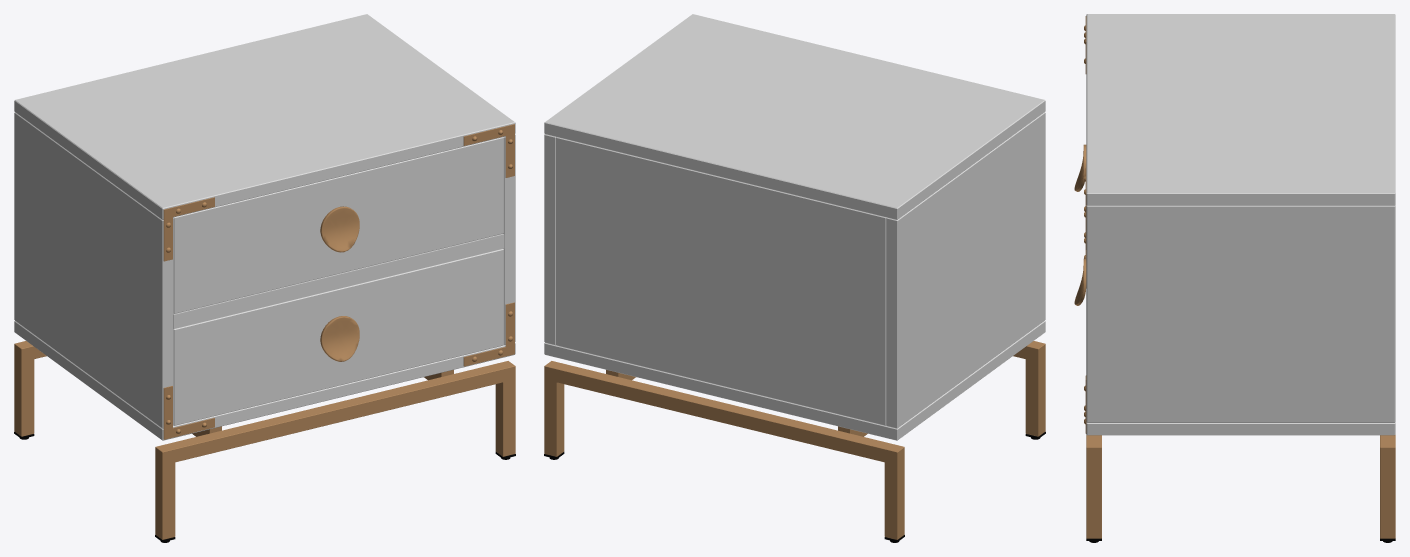
3 views of the same model, side by side, from view 1: azimuth 30°, elevation 25°; view 2: azimuth 150°, elevation 25°; view 3: azimuth 270°, elevation 25° (orthographic). The views are drawn at different scales.
Parts seen in each view (by area): view 1: 53e9a710ba3a592ddf55b3cd2b055003614c4b1c > > root > (×2); view 2: 53e9a710ba3a592ddf55b3cd2b055003614c4b1c > > root > (×2); view 3: 53e9a710ba3a592ddf55b3cd2b055003614c4b1c > > root > (×2).
Part boxes in pixels (left/top/right/bottom): 53e9a710ba3a592ddf55b3cd2b055003614c4b1c > > root > (×2): left=14, top=14, right=515, bottom=539; 53e9a710ba3a592ddf55b3cd2b055003614c4b1c > > root > (×2): left=544, top=14, right=1045, bottom=539; 53e9a710ba3a592ddf55b3cd2b055003614c4b1c > > root > (×2): left=1074, top=14, right=1395, bottom=538.
Size of the model in its own units: 0.5501 by 0.501 by 0.4156.
